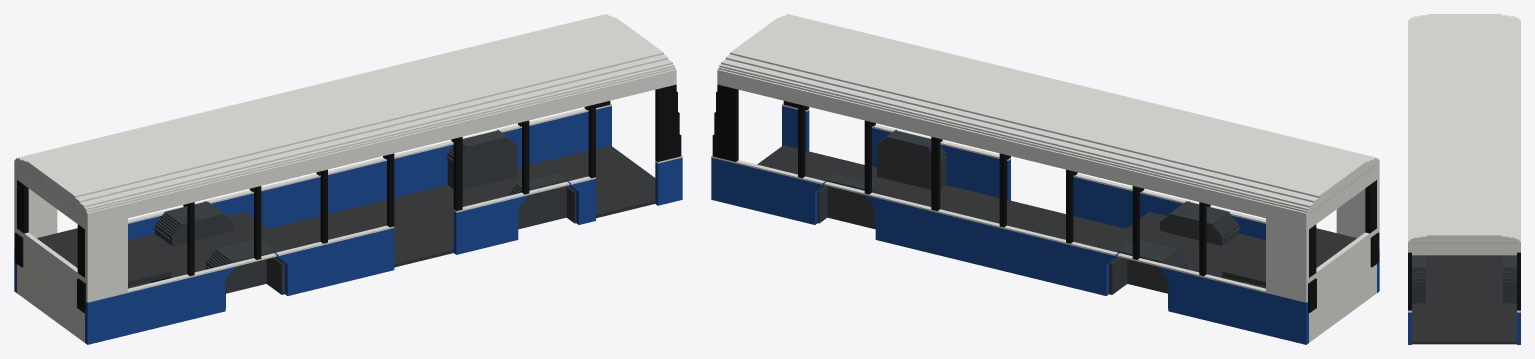
File: city_bus_shell.glb
3 views of the same model, side by side, from view 1: azimuth 30°, elevation 25°; view 2: azimuth 150°, elevation 25°; view 3: azimuth 270°, elevation 25° (orthographic). The views are drawn at different scales.
Visible parts, largest first — view 1: body:compound; view 2: body:compound; view 3: body:compound.
Part boxes in pixels (left/top/right/bottom): body:compound: left=14, top=14, right=682, bottom=344; body:compound: left=711, top=14, right=1379, bottom=344; body:compound: left=1408, top=14, right=1520, bottom=344.
Size of the model in its own units: 12.03 by 2.69 by 2.56.
